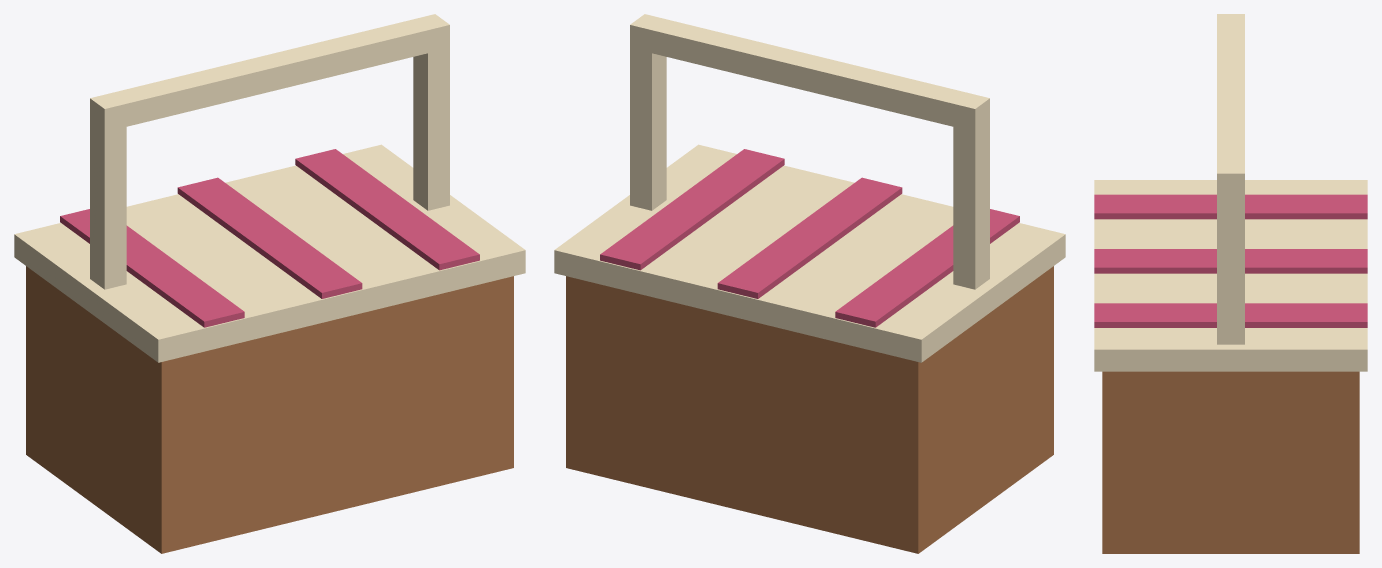
The model's file is turning-seasons-picnic-basket-a2b53389__2124.glb.
3 renders of one model, left to right at view 1: azimuth 30°, elevation 25°; view 2: azimuth 150°, elevation 25°; view 3: azimuth 270°, elevation 25°, orthographic. The views are drawn at different scales.
Visible parts, largest first — view 1: picnic-basket; view 2: picnic-basket; view 3: picnic-basket.
Boxes of the visible parts, bbox=[...] form: picnic-basket: bbox=[14, 14, 525, 553]; picnic-basket: bbox=[554, 14, 1065, 553]; picnic-basket: bbox=[1094, 14, 1367, 553].
Bounding box in the file's own units: 0.5 × 0.52 × 0.34.
